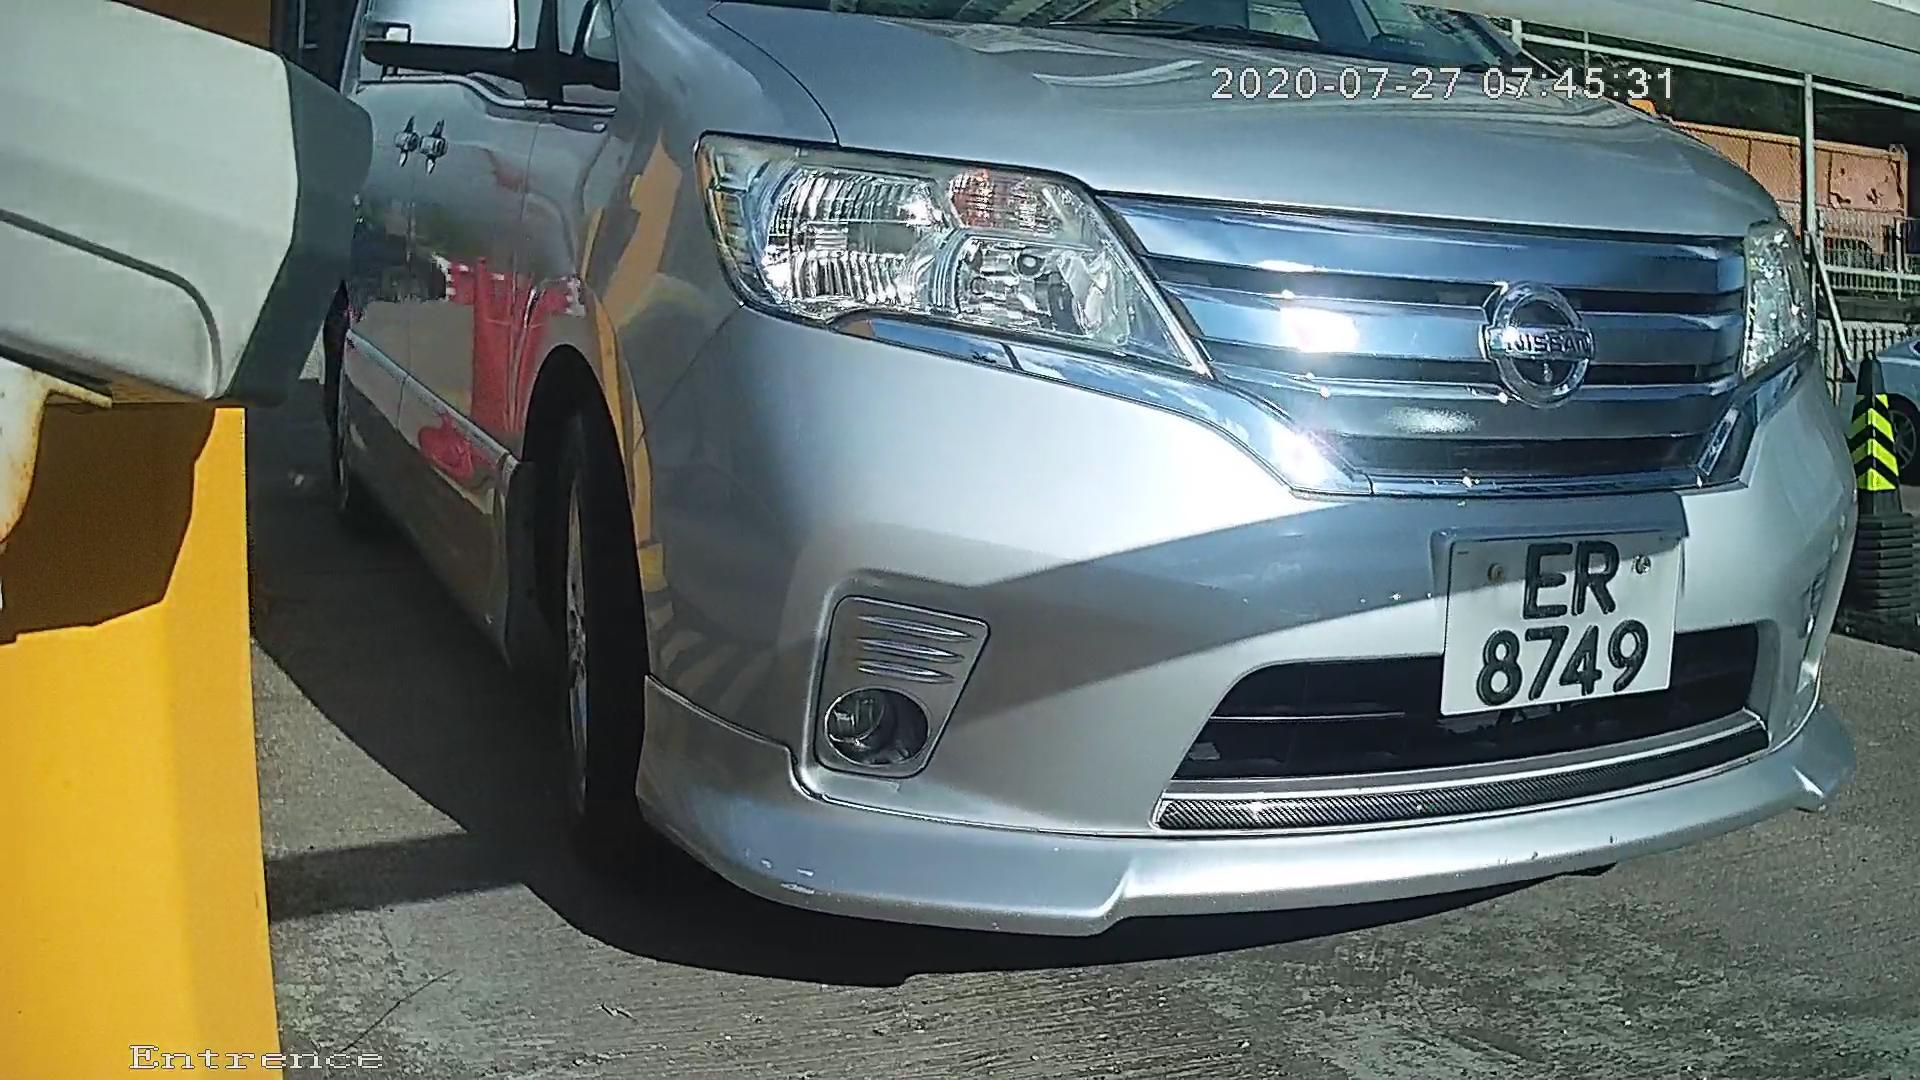Car: (241, 78, 1852, 960)
License Plate: (1423, 531, 1698, 733)
